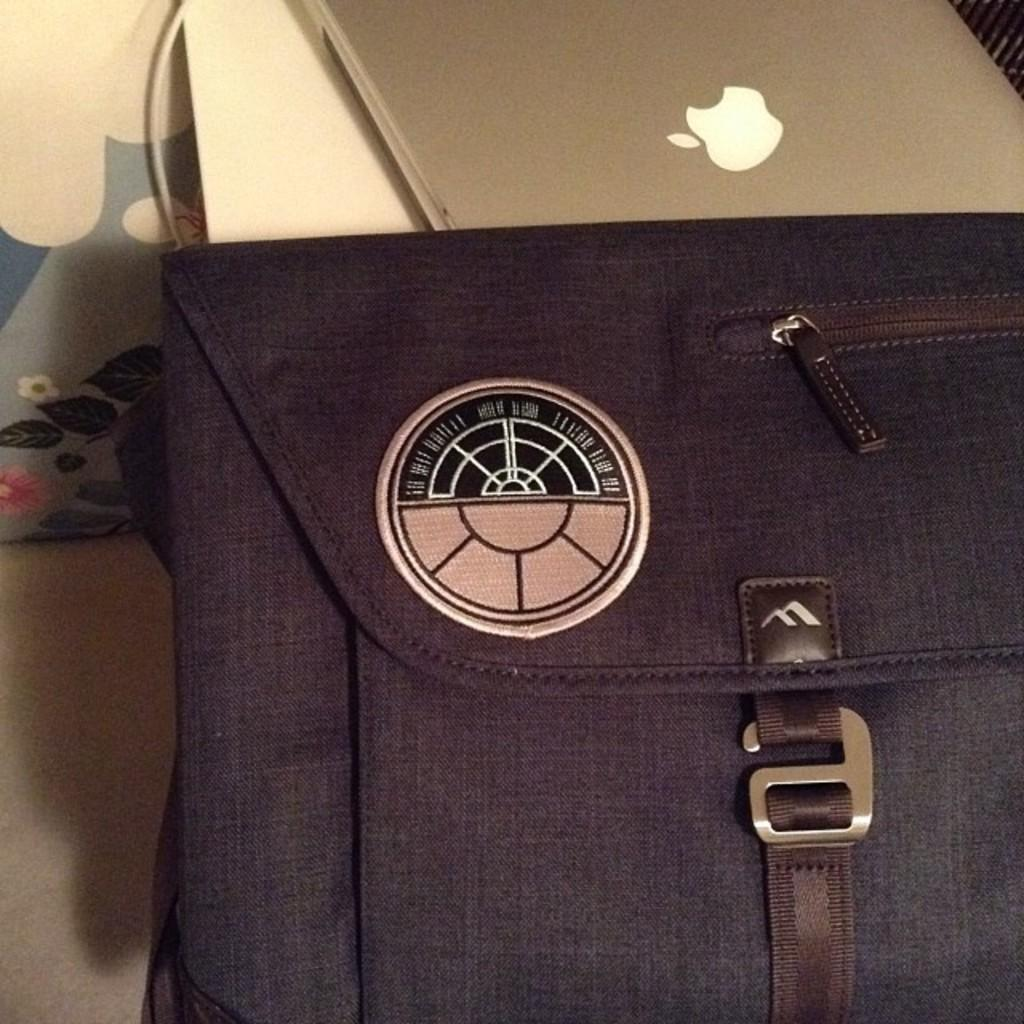Luggage-and-bags: (115, 78, 973, 990)
